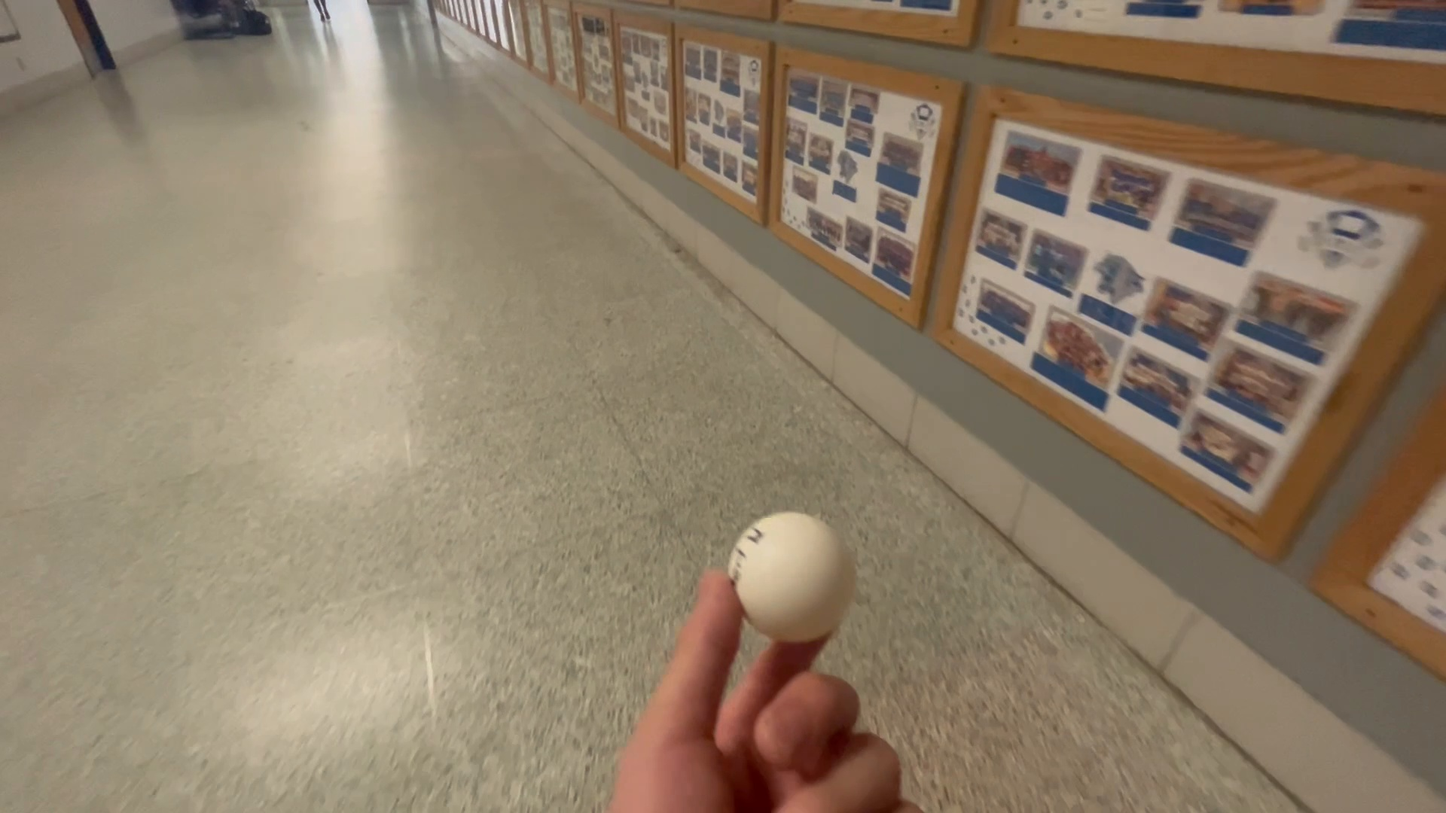Ball: (731, 504, 861, 638)
